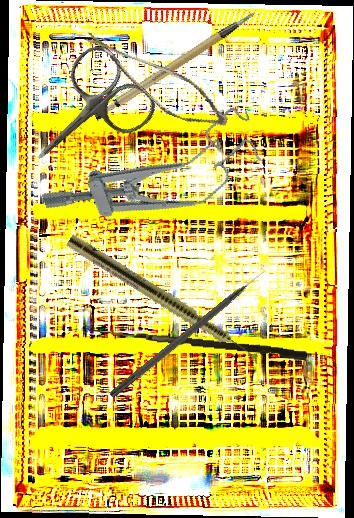Handpiece: (64, 233, 264, 367)
Hook Surgical: (109, 267, 270, 401), (86, 328, 308, 361)
Iris Scissors: (5, 37, 164, 194)
Micro Scissor: (68, 31, 240, 135)
Scalpel Handle: (83, 11, 268, 123)
Speculum: (35, 102, 272, 255)
